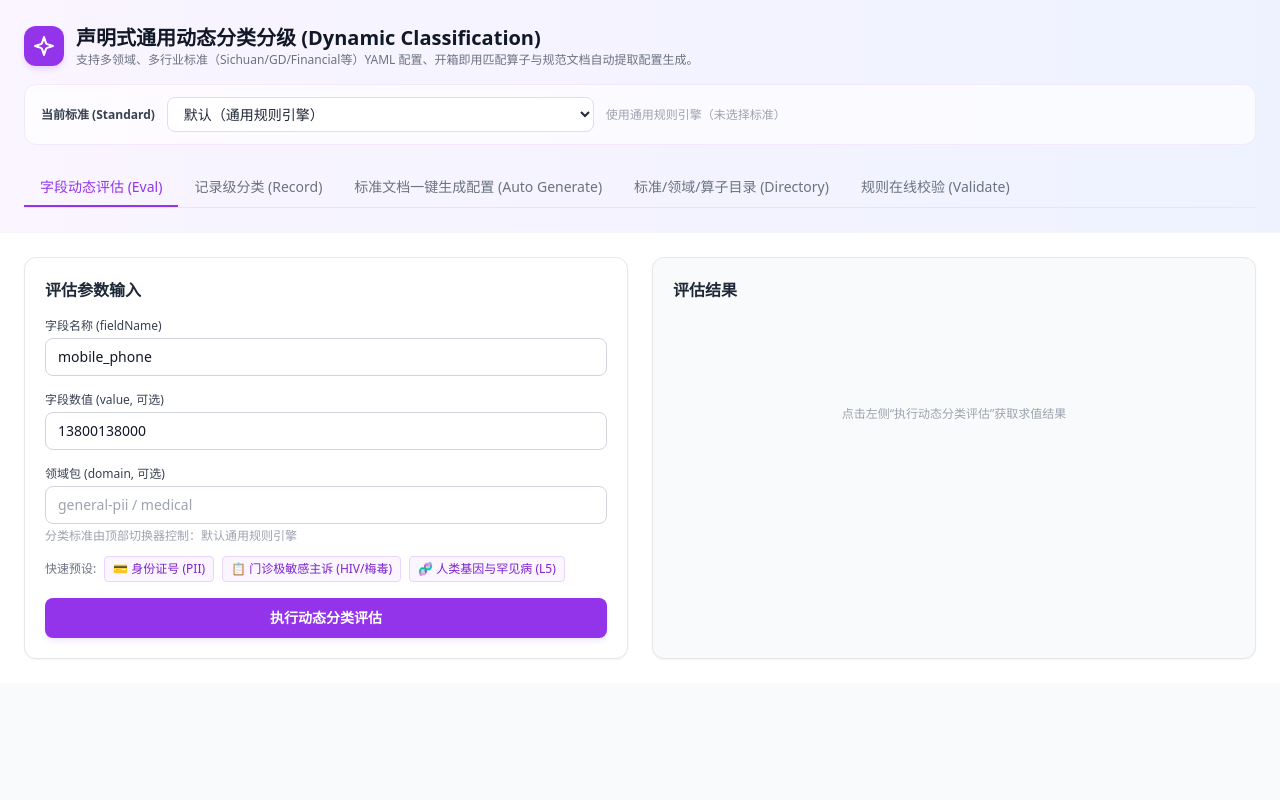
Scenario: DynClassificationPanel 全局标准切换器 › 切换到四川标准后展示 L1~L5 等级体系
This screenshot has width=1280, height=800.
Select "sc_health_db51 — 四川省健康医疗大数据应用指南" in the dropdown named "当前标准 (Standard)" at [380, 114], box [167,97,594,132]
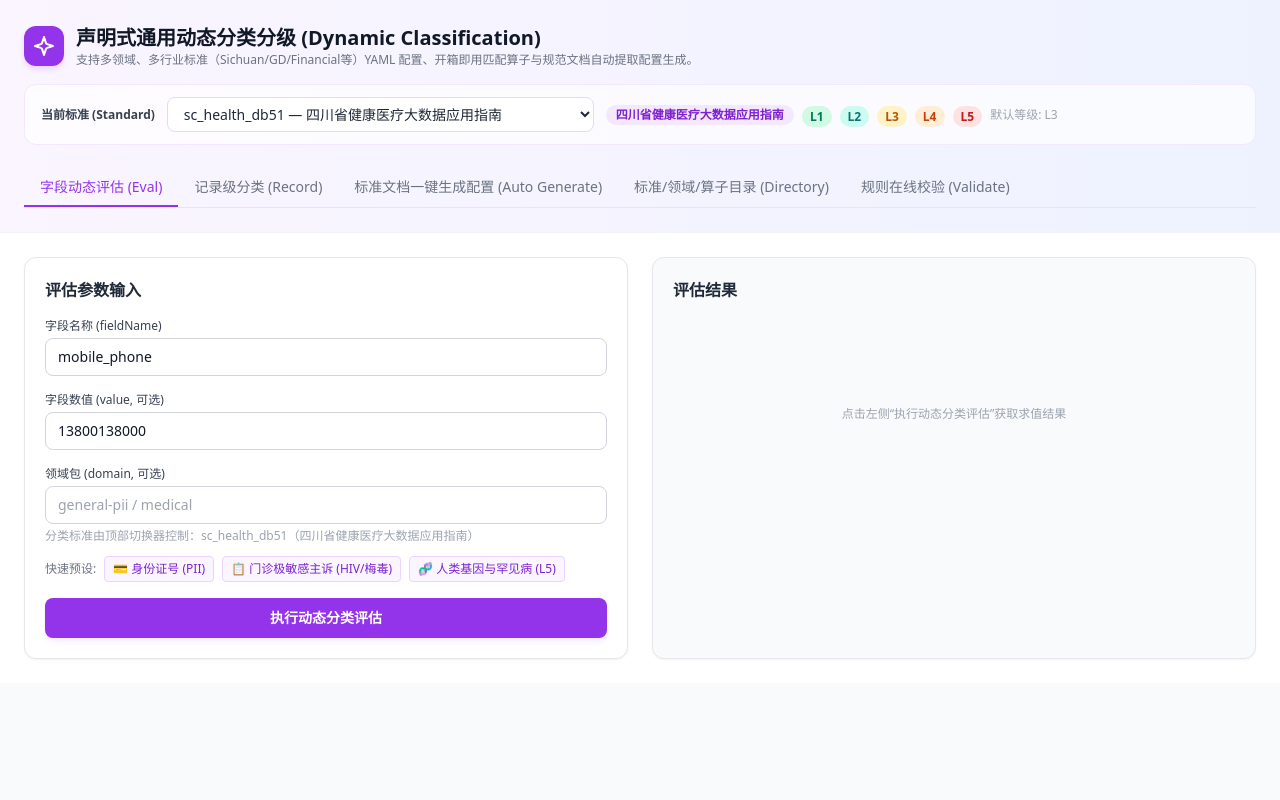
expect the text "L1" is shown: met, box [802,106,832,126]
expect the text "L2" is shown: met, box [840,106,869,126]
expect the text "L3" is shown: met, box [877,106,907,126]
